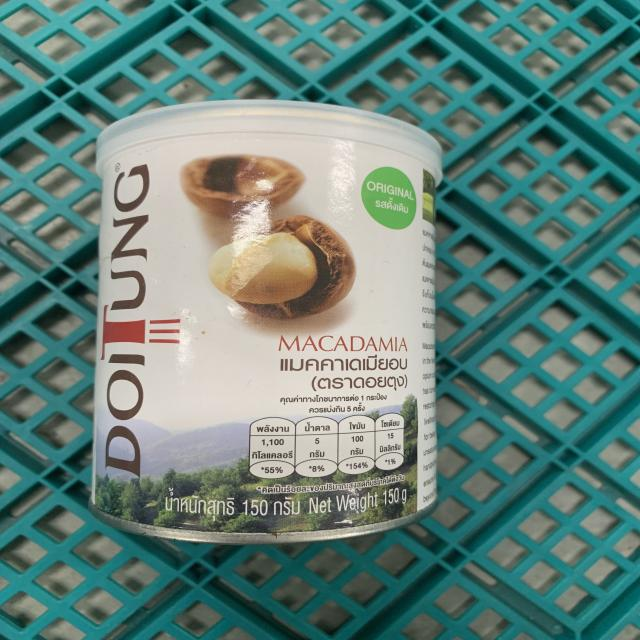object_name: (97, 116, 434, 525)
